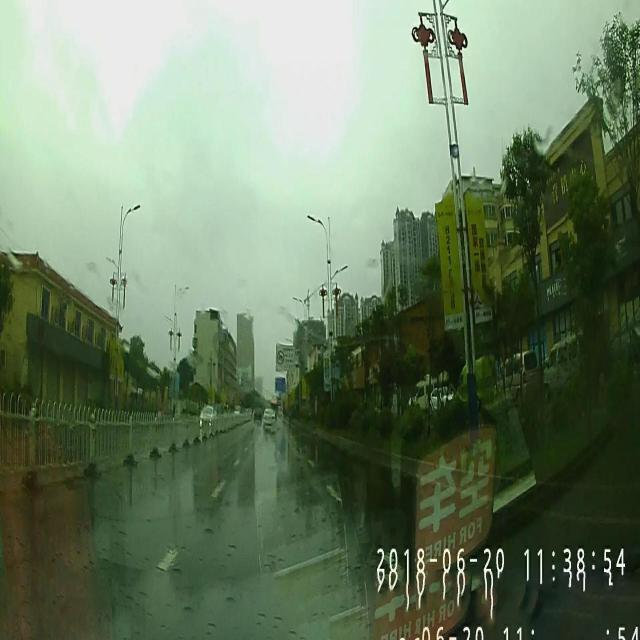car: (198, 403, 218, 430), (264, 408, 276, 430), (254, 407, 262, 422)
